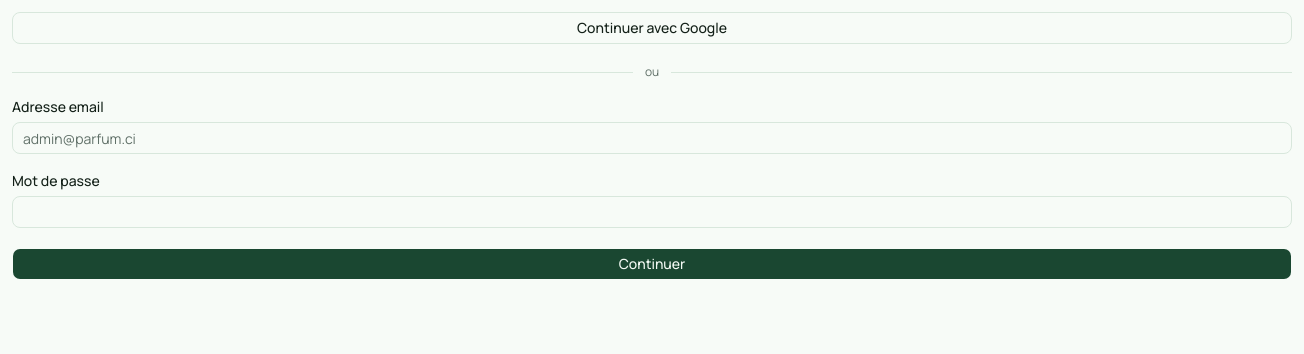
LoginForm Google OAuth › shows a safe message when Google initiation fails
Click the button "Continuer avec Google" at (652, 28), box left=12, top=12, right=1292, bottom=44
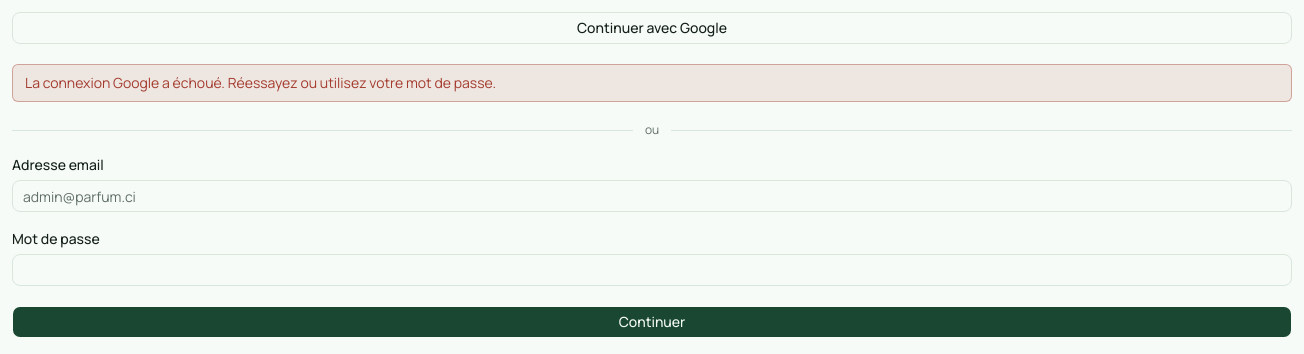
Now the text "La connexion Google a échoué" is shown, box left=25, top=73, right=496, bottom=92
